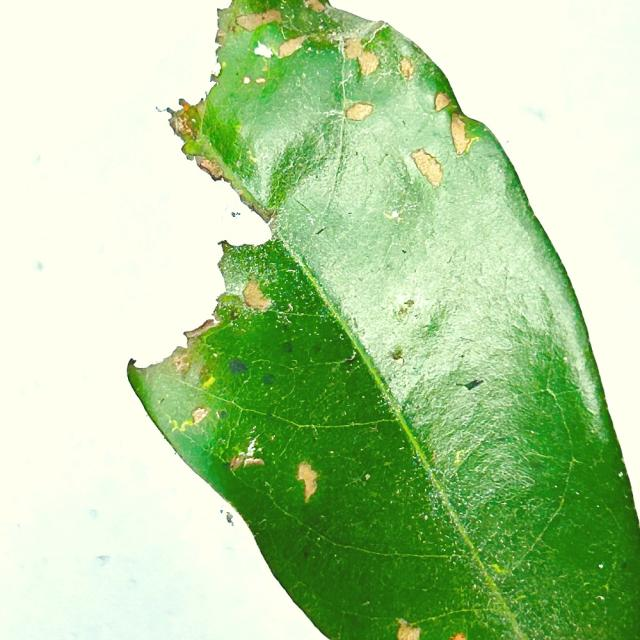Deficiency Leaf: (113, 125, 249, 372), (113, 0, 228, 130)
Lychee: (127, 0, 639, 639)
